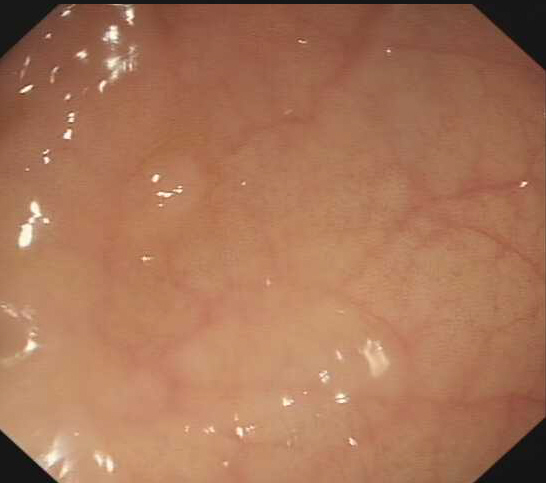adenoma: (128, 139, 211, 222)
